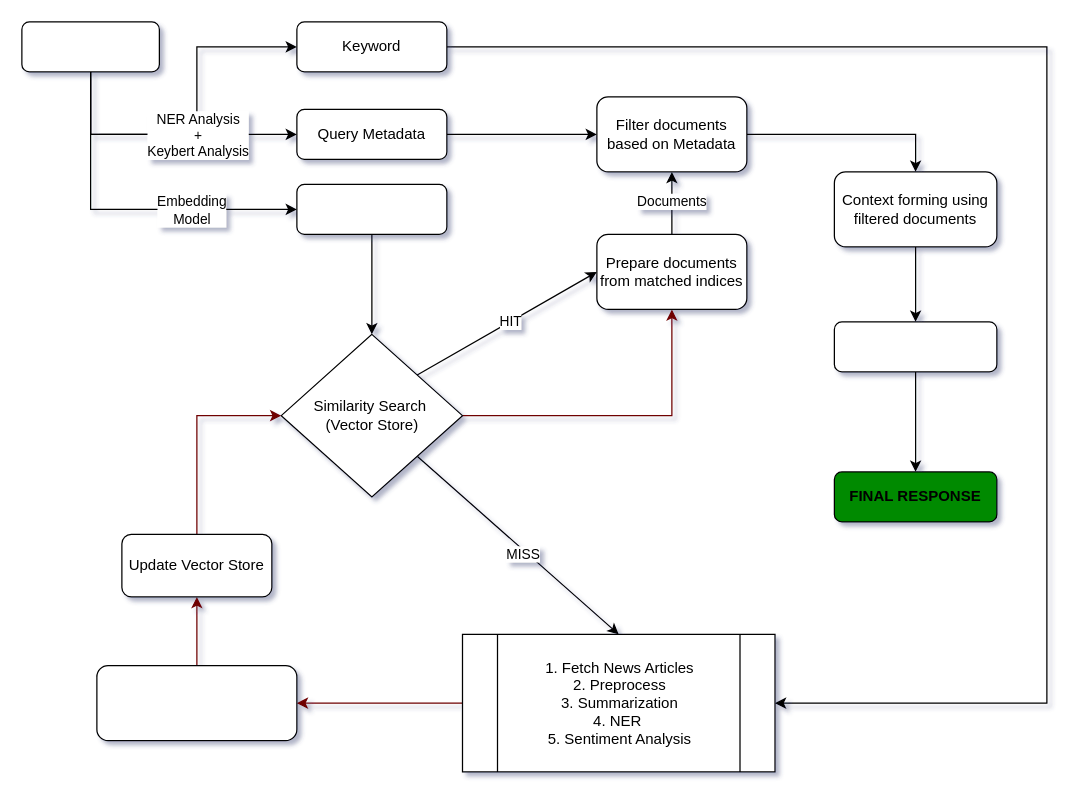
Image size: 1086x801. Some labels were removed from this diagram. The box of each missing label's shape, as (x1, y1, x2, y2) in pixels:
Create embeddings and chunks for all newly fetched articles: (96, 664, 297, 741)
Ollama Mistral: (833, 321, 997, 372)
Query Vector Embedding: (296, 183, 447, 234)
USER QUERY: (21, 21, 159, 72)
